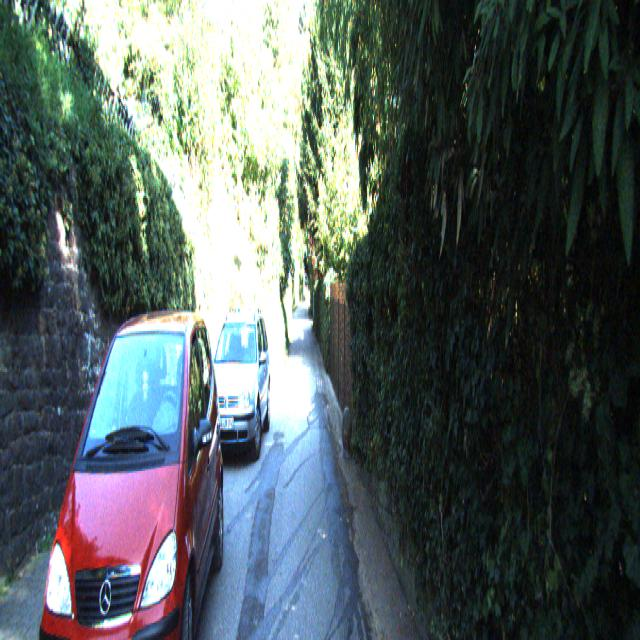Car: (22, 301, 226, 638), (203, 308, 271, 480)
